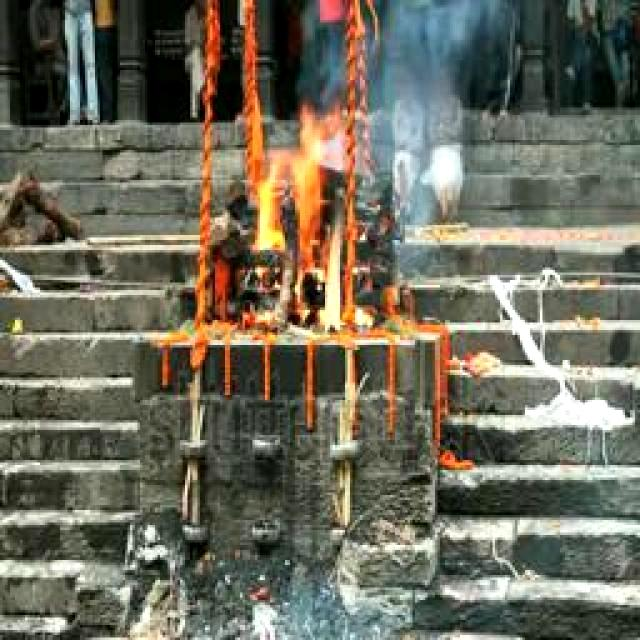fire: (254, 115, 350, 332)
